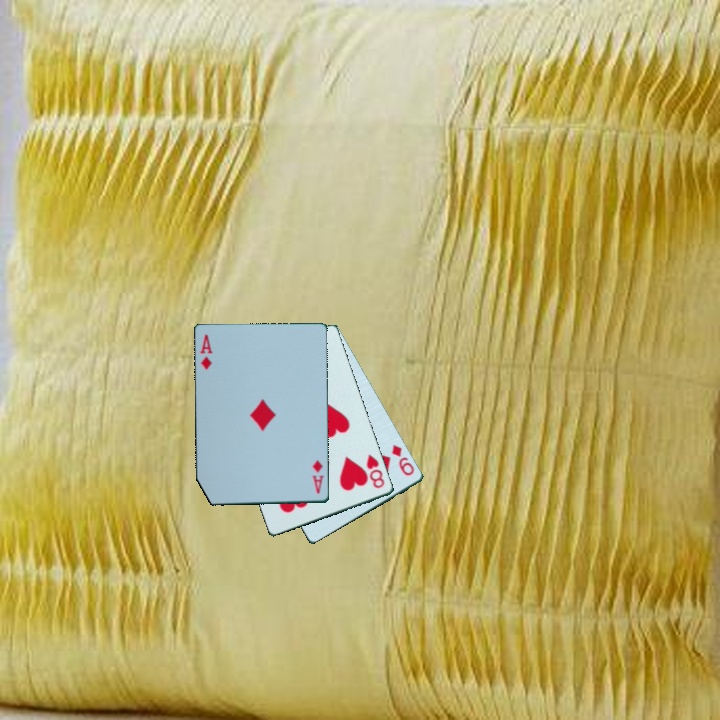8h: (363, 451, 388, 491)
9d: (388, 441, 417, 479)
Ad: (197, 331, 216, 373), (309, 457, 327, 497)
